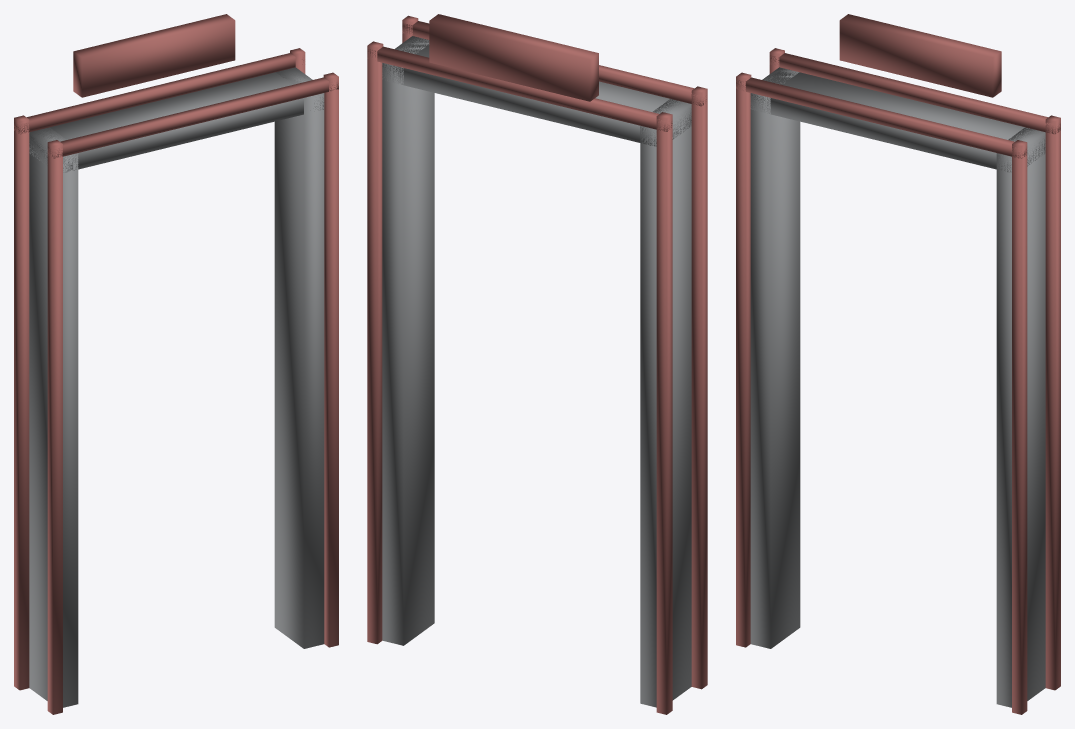
Rendered from doorway_emergency_exit_w106_h240_d24.glb.
3 renders of one model, left to right at view 1: azimuth 30°, elevation 25°; view 2: azimuth 150°, elevation 25°; view 3: azimuth 330°, elevation 25°, orthographic. The views are drawn at different scales.
Parts seen in each view (by area): view 1: world; view 2: world; view 3: world.
Part boxes in pixels (<box>): world: <box>14,14,338,714</box>; world: <box>367,14,707,714</box>; world: <box>736,14,1060,714</box>.
Size of the model in its own units: 1.34 by 2.76 by 0.3739.
